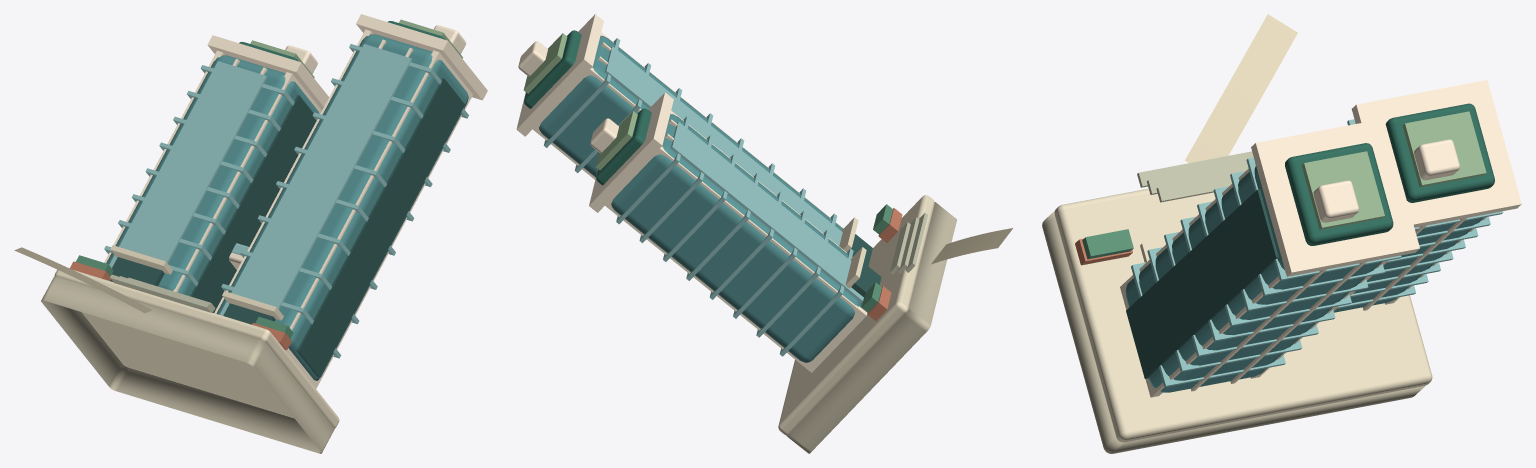
Rendered from twinTowers.glb.
The picture shows the model from 3 angles, left to right: view 1: azimuth 30°, elevation 25°; view 2: azimuth 150°, elevation 25°; view 3: azimuth 270°, elevation 25°; orthographic projection. The views are drawn at different scales.
Parts seen in each view (by area): view 1: twinTowers (×11); view 2: twinTowers (×12); view 3: twinTowers (×11).
Part boxes in pixels (<box>): twinTowers (×11): <box>14,14,487,453</box>; twinTowers (×12): <box>516,14,1012,453</box>; twinTowers (×11): <box>1042,14,1521,453</box>.
Bounding box in the file's own units: 0.5245 × 0.3458 × 0.351.
